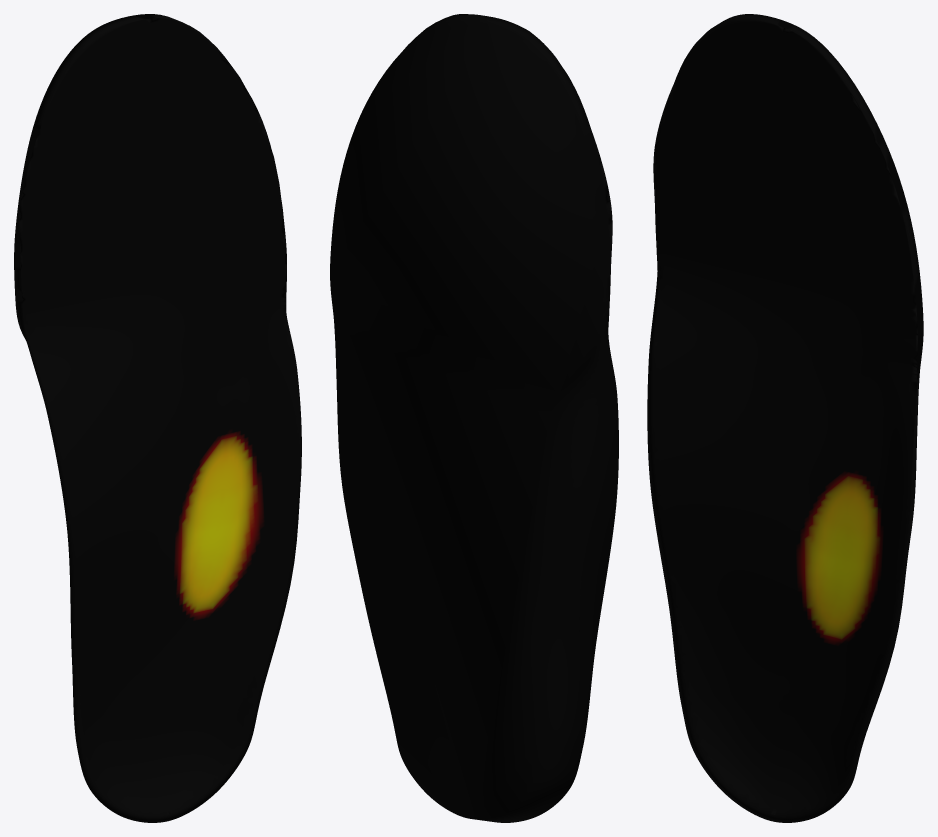
The model's file is CPO-306901_RIGHT.glb.
3 renders of one model, left to right at view 1: azimuth 30°, elevation 25°; view 2: azimuth 150°, elevation 25°; view 3: azimuth 330°, elevation 25°, orthographic. The views are drawn at different scales.
Parts seen in each view (by area): view 1: geometry_0; view 2: geometry_0; view 3: geometry_0.
Boxes of the visible parts, x1,y1,x2,y2 form: geometry_0: [14, 14, 301, 822]; geometry_0: [330, 14, 618, 822]; geometry_0: [647, 14, 923, 822].
Bounding box in the file's own units: 106 × 296 × 22.2.
